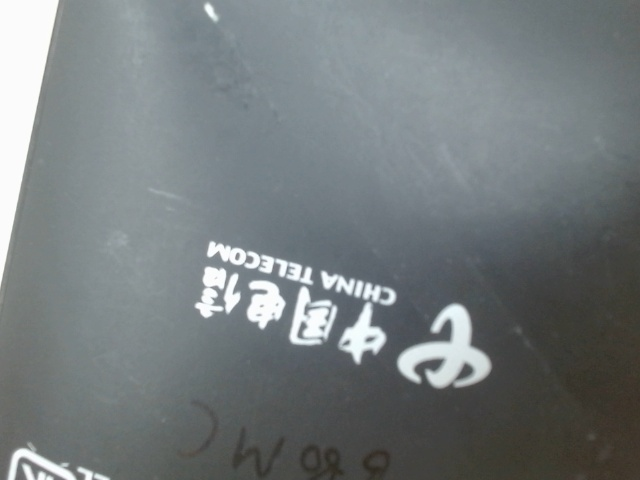AB_ChinaTelecom: (182, 226, 520, 394)
